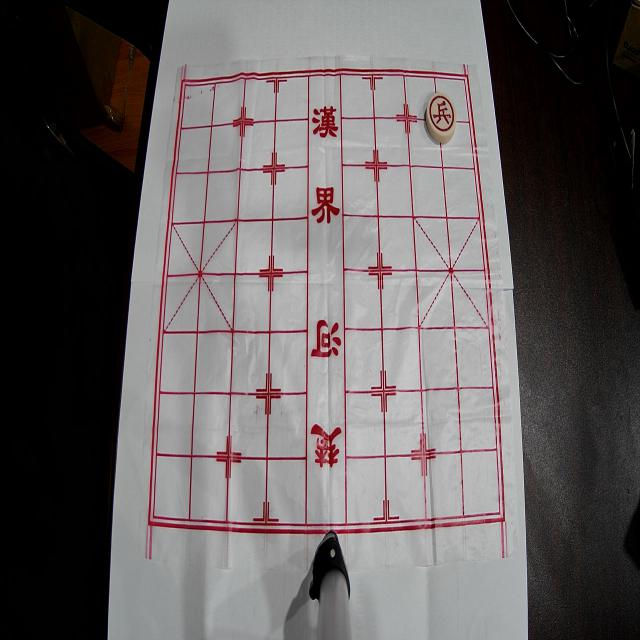red-soldier: (426, 93, 456, 143)
